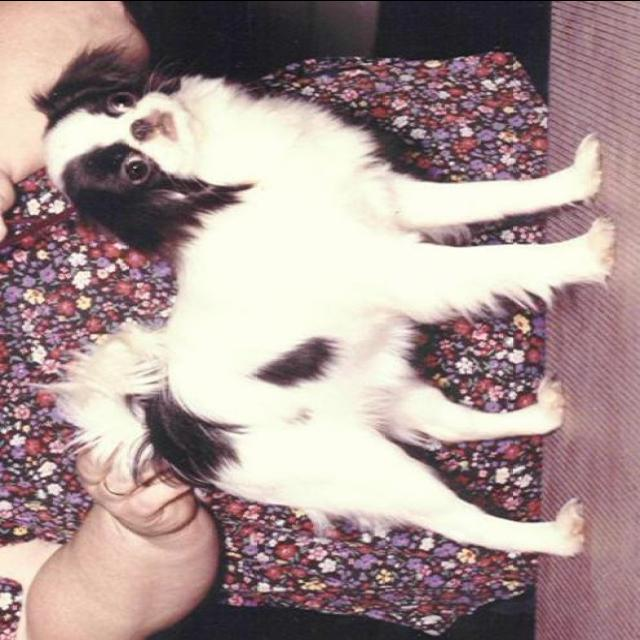husky: (22, 24, 622, 560)
